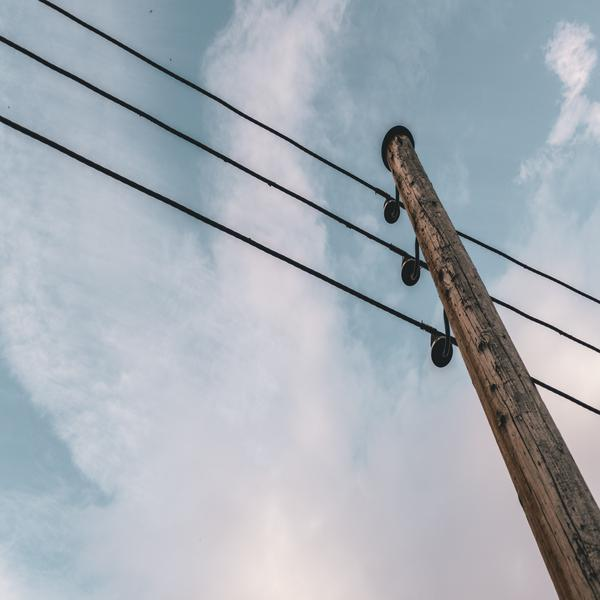utility_pole: (344, 114, 529, 377)
